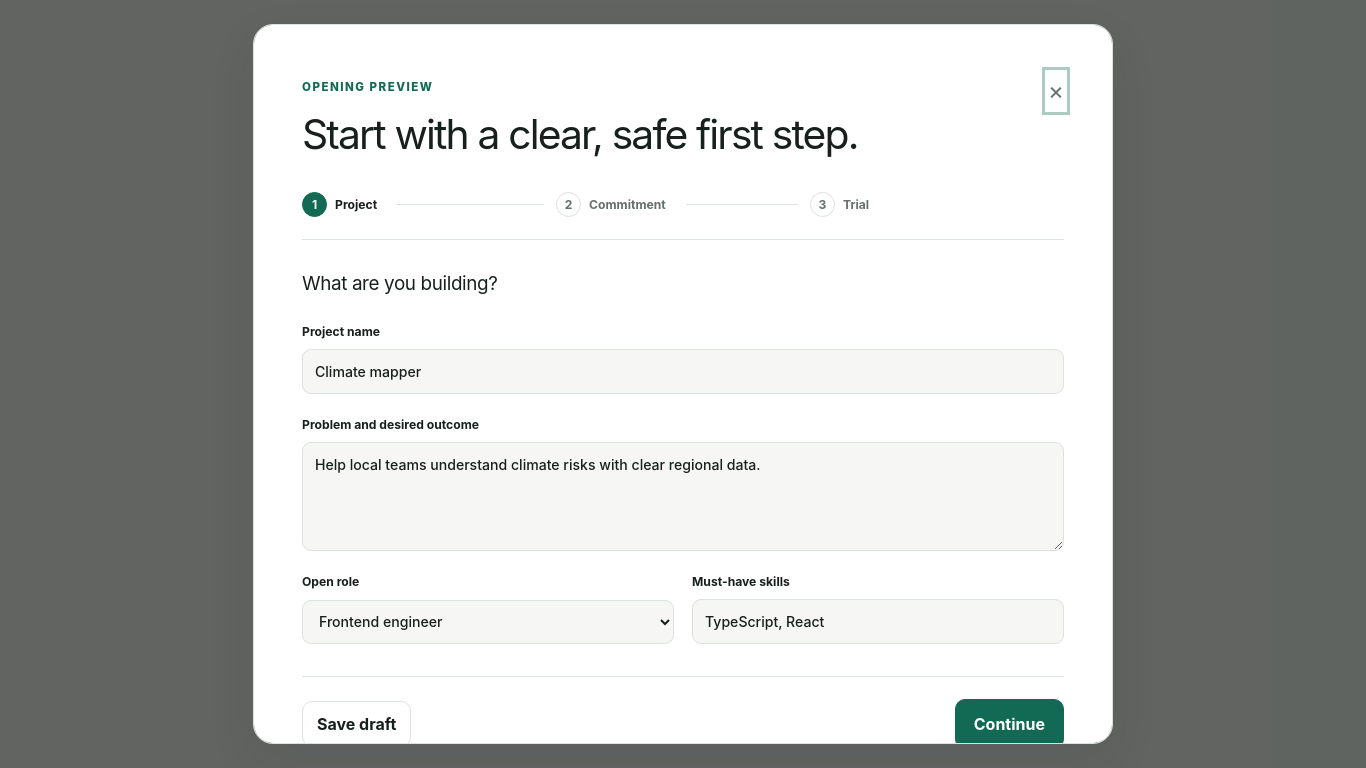
Scenario: CreateOpeningPanel › restores and saves a device-local draft
Replace the text in the field labelled "Project name" with "Climate atlas" at [683, 371], box [302,349,1064,394]
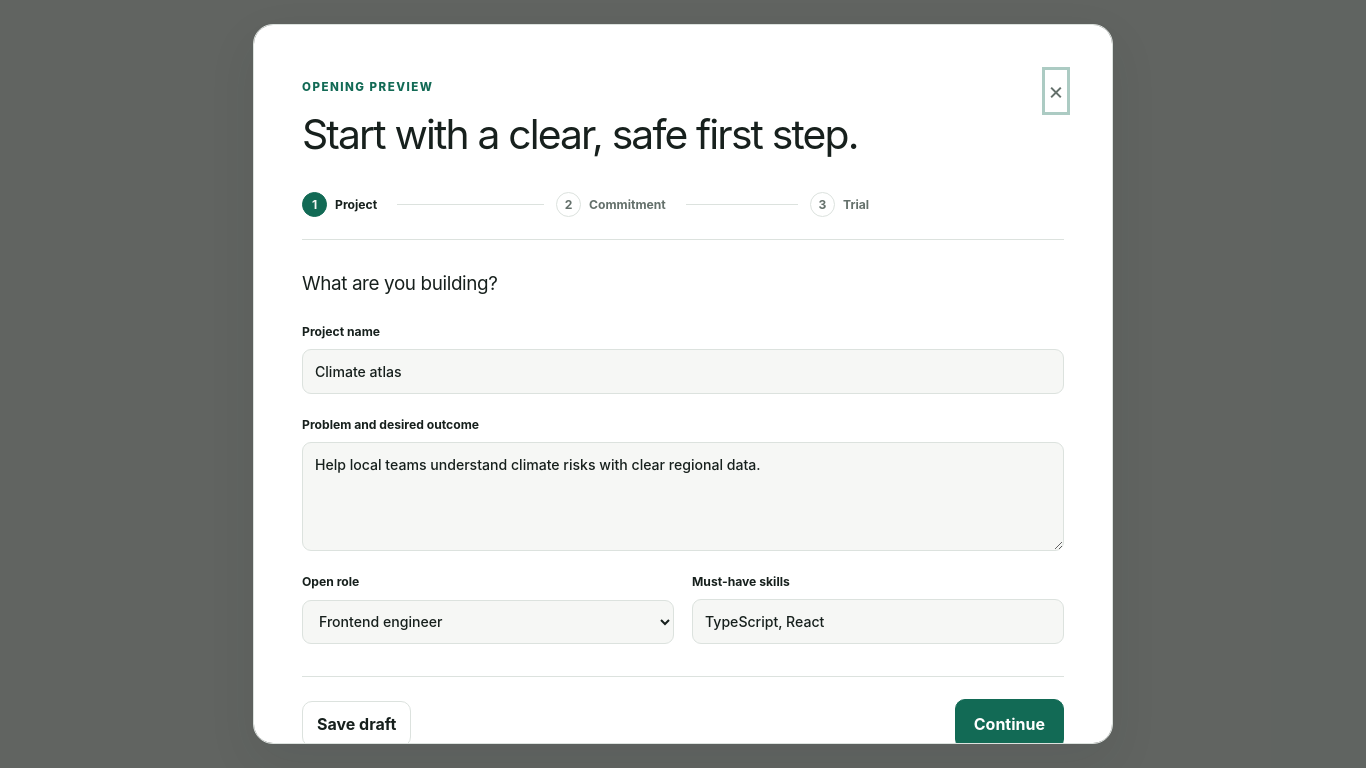
Click the button "Save draft" at [357, 724], box [302,701,411,747]
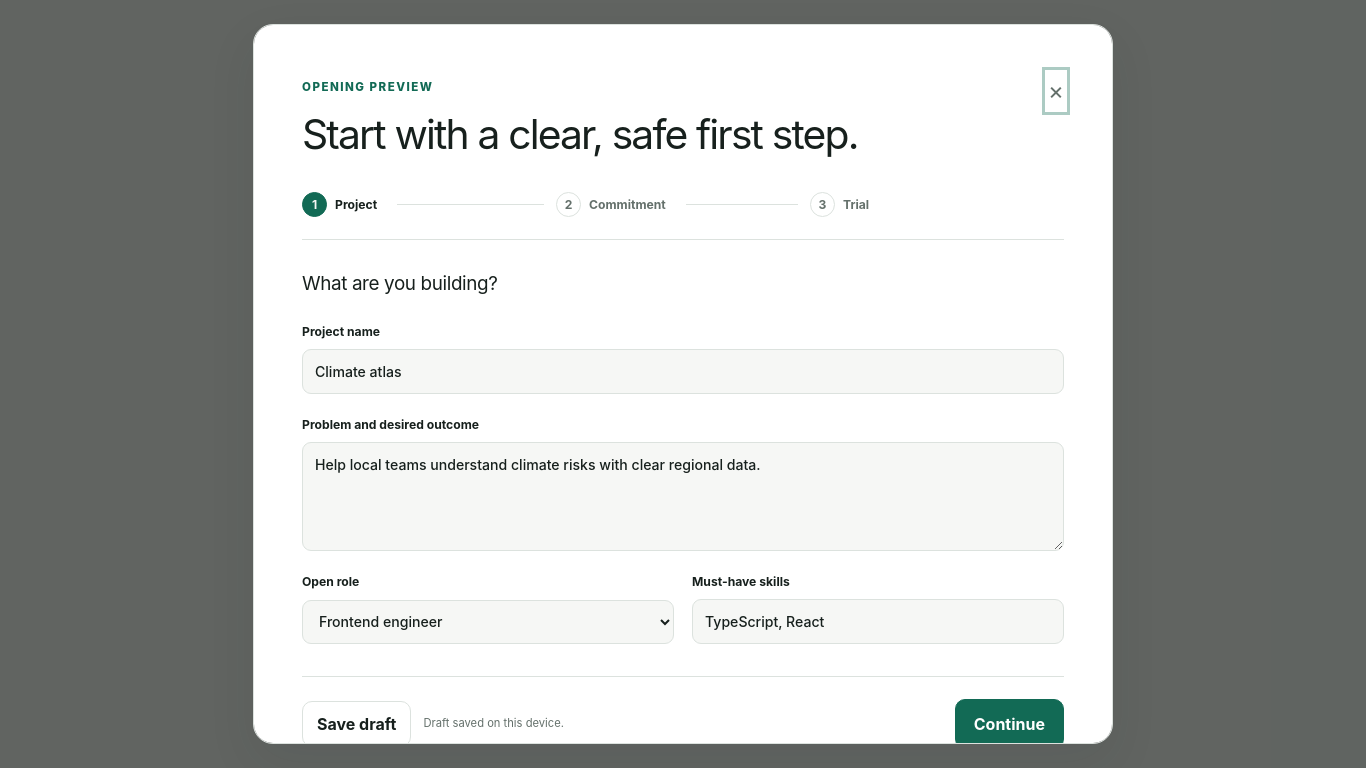
Result: the text "Draft saved on this device." is shown at [423,716,564,732]
